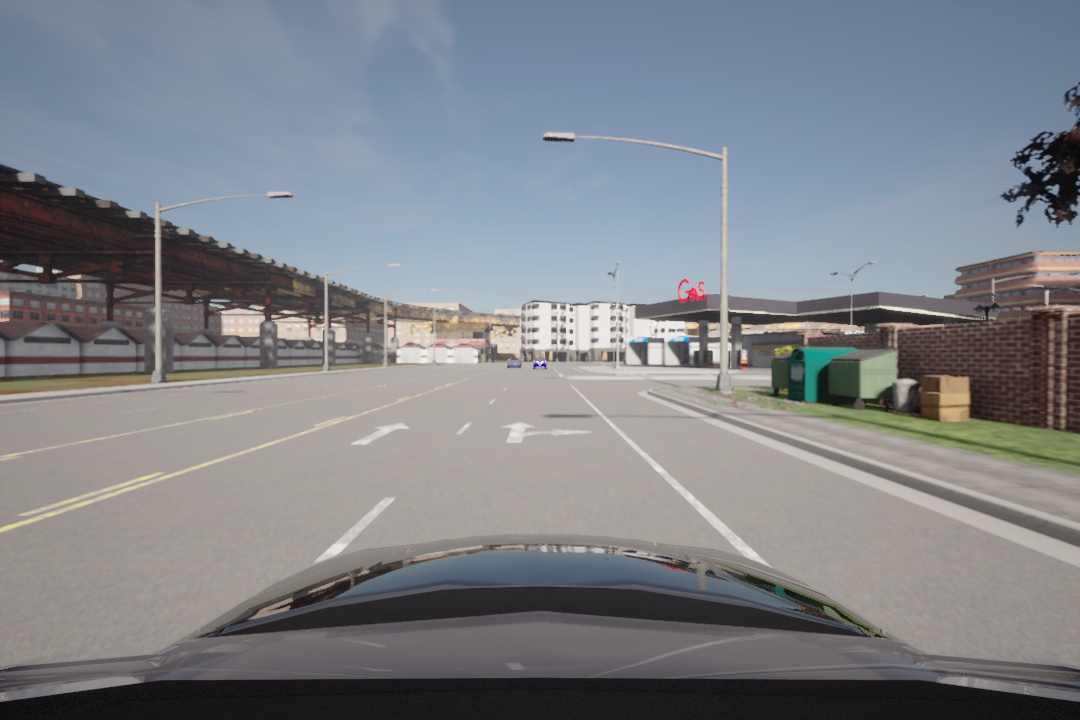RoadSign_forward: (352, 417, 414, 452)
RoadSign_forward_right: (497, 418, 594, 446)
